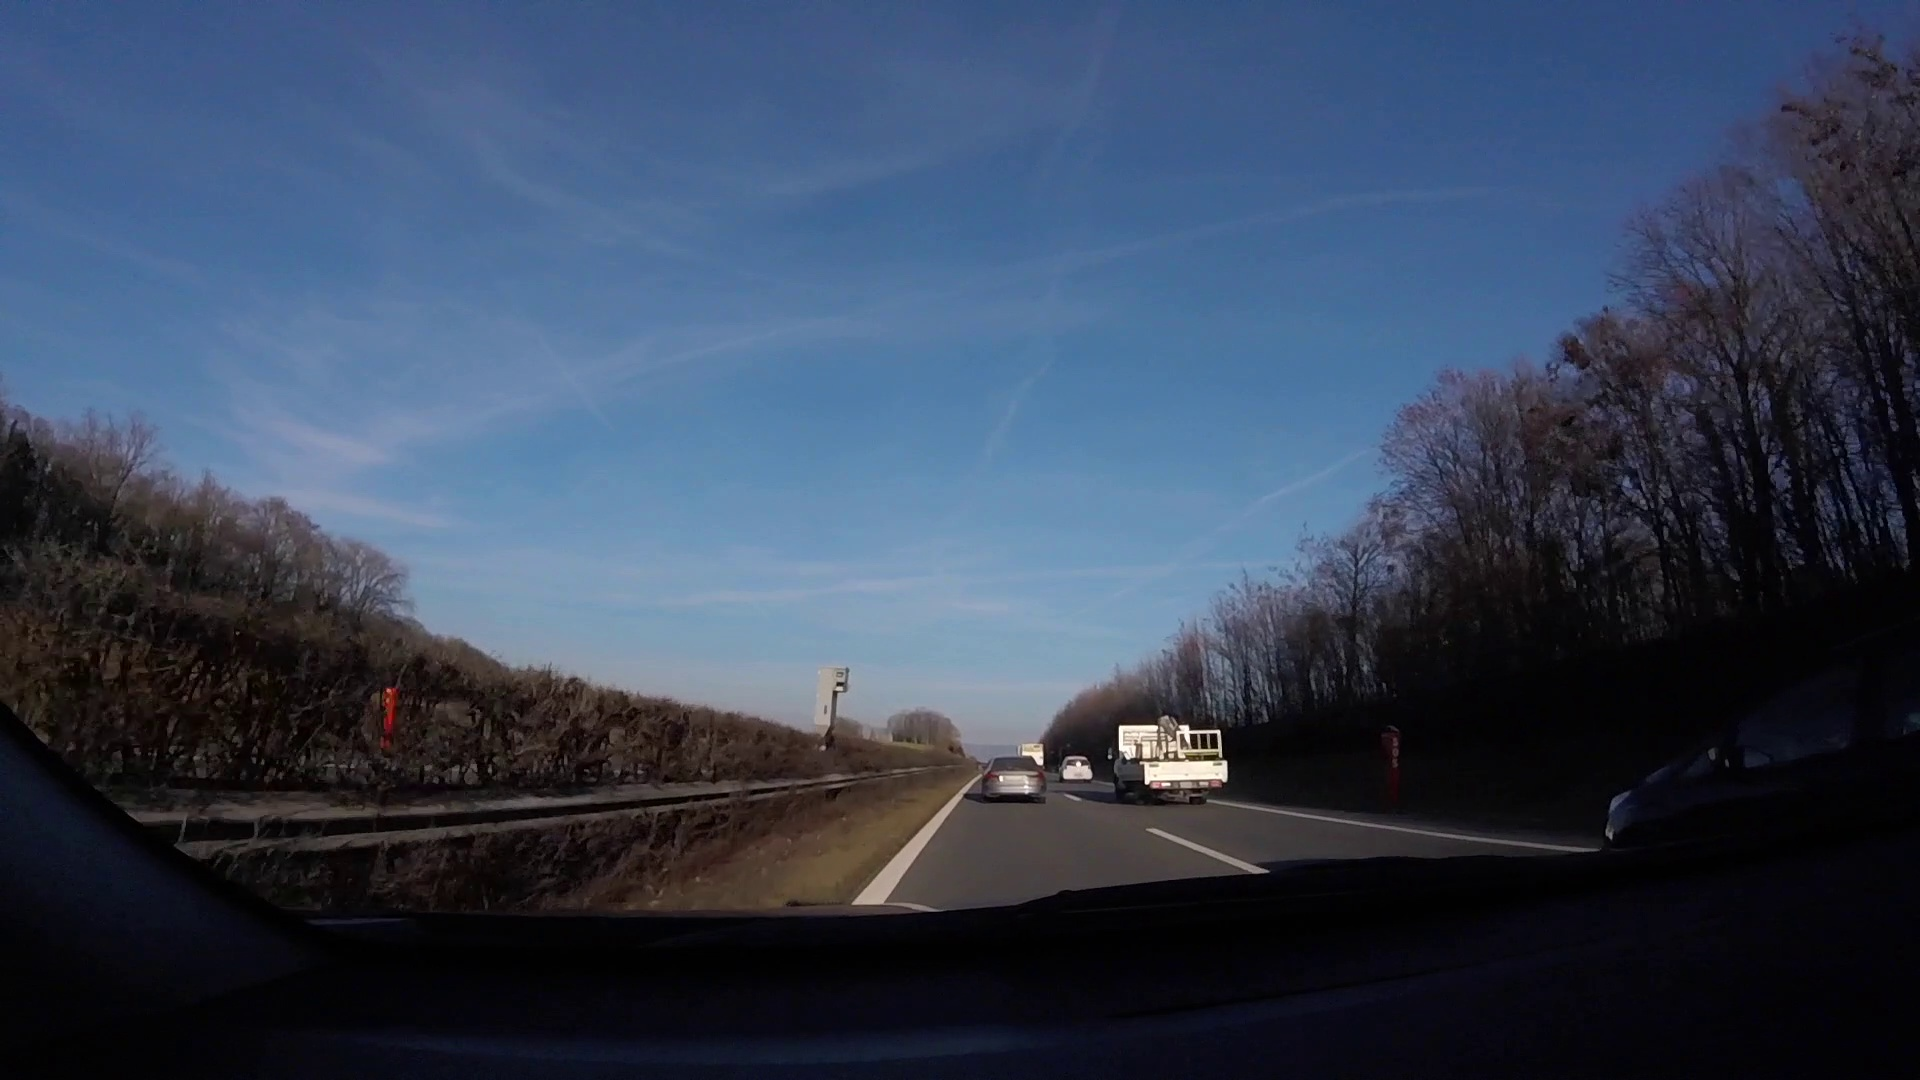radar: (811, 663, 852, 748)
